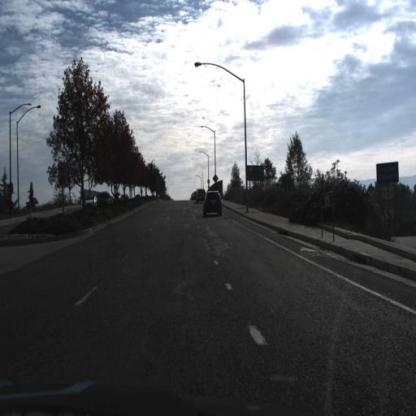car: (203, 191, 225, 218), (84, 196, 99, 213), (197, 189, 208, 203), (193, 193, 201, 204)
